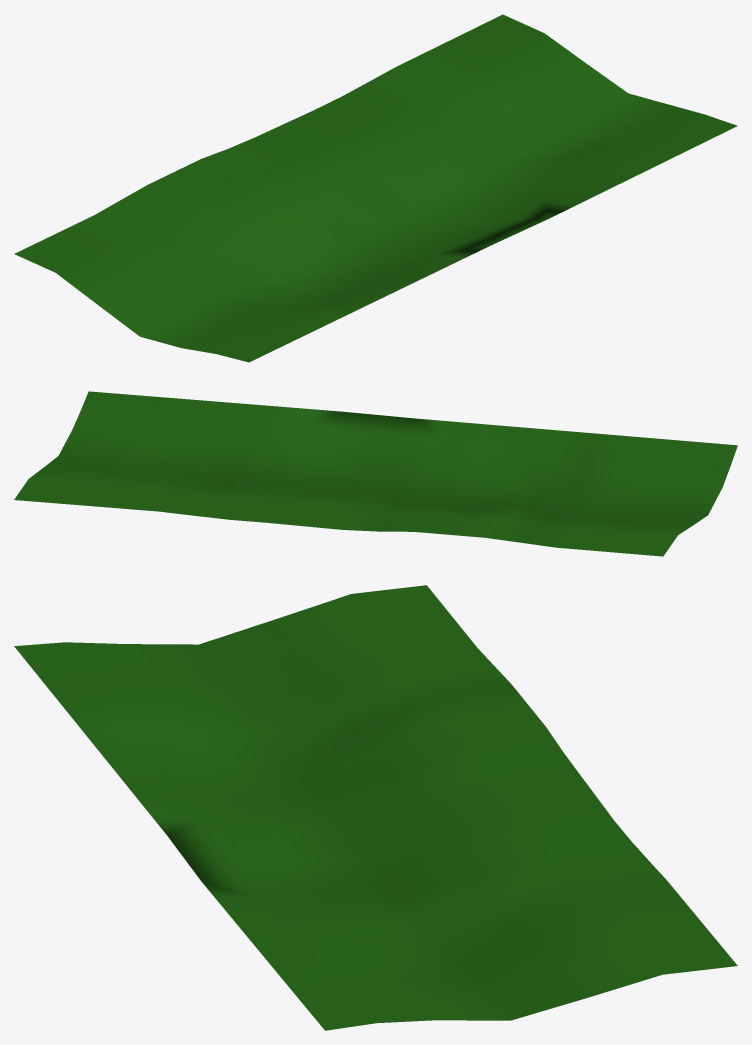
File: Kulturbrott_grass_isolated.fbx
3 views of the same model, one above another, from view 1: azimuth 30°, elevation 25°; view 2: azimuth 150°, elevation 25°; view 3: azimuth 270°, elevation 25° (orthographic). The views are drawn at different scales.
Visible parts, largest first — view 1: grass; view 2: grass; view 3: grass.
Part boxes in pixels (box(x1,y1,x2,y2)): grass: box(14, 14, 737, 362); grass: box(14, 391, 737, 556); grass: box(14, 585, 737, 1030).
Bounding box in the file's own units: 2570 × 145 × 1818.
